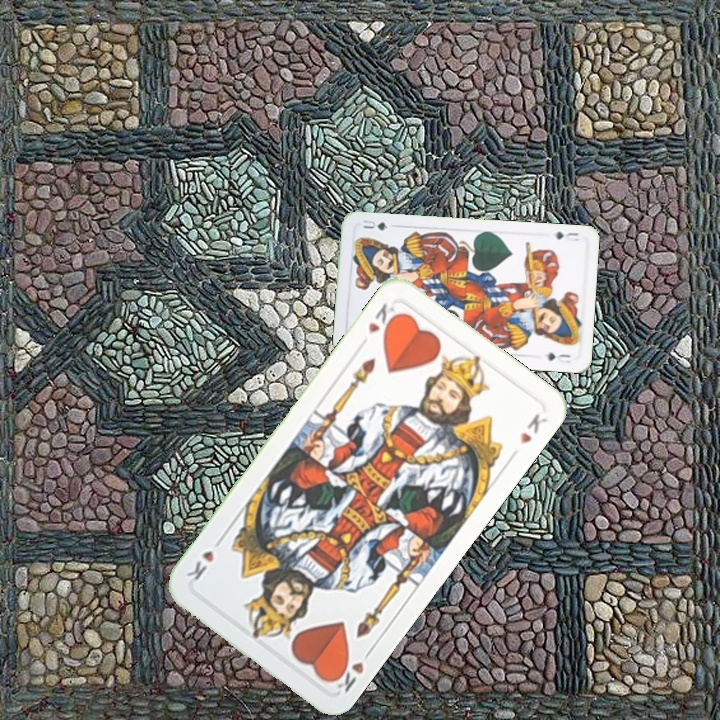GU: (551, 227, 581, 244)
HK: (327, 644, 376, 696), (364, 299, 403, 339)
